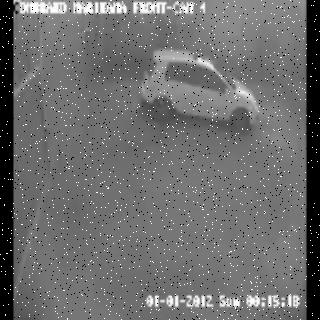car: (138, 54, 258, 128)
